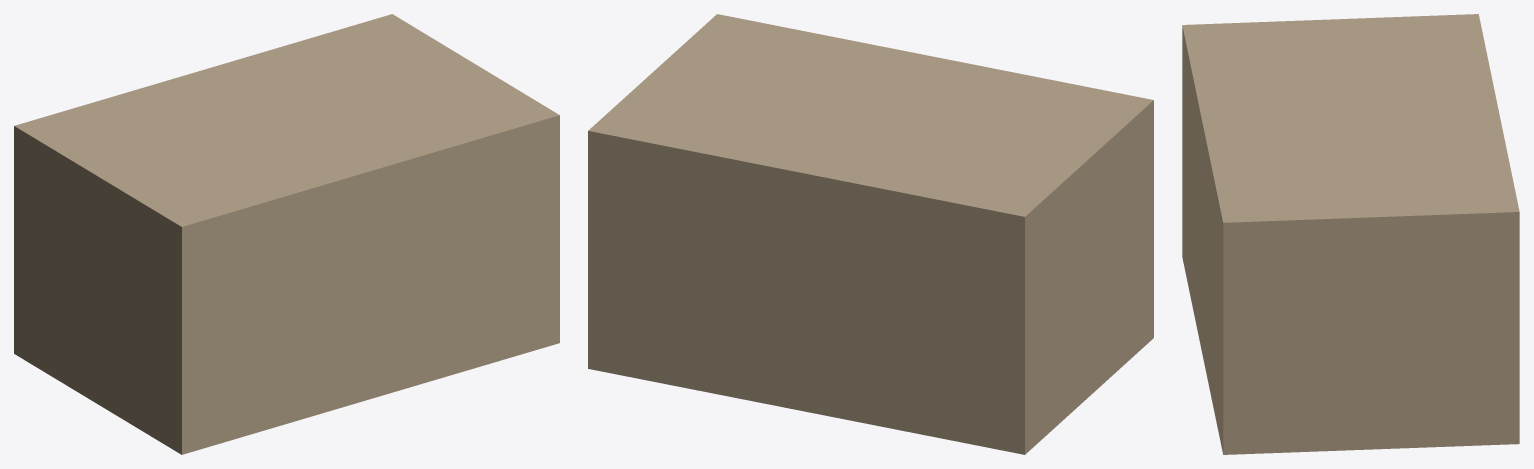
The model's file is bld_101562411.dae.
The picture shows the model from 3 angles, left to right: view 1: azimuth 30°, elevation 25°; view 2: azimuth 150°, elevation 25°; view 3: azimuth 270°, elevation 25°; orthographic projection. The views are drawn at different scales.
Visible parts, largest first — view 1: bld_101562411; view 2: bld_101562411; view 3: bld_101562411.
Boxes of the visible parts, bbox=[...] form: bld_101562411: bbox=[14, 14, 559, 454]; bld_101562411: bbox=[588, 14, 1153, 454]; bld_101562411: bbox=[1182, 14, 1519, 454].
Size of the model in its own units: 15.43 by 10.54 by 8.
